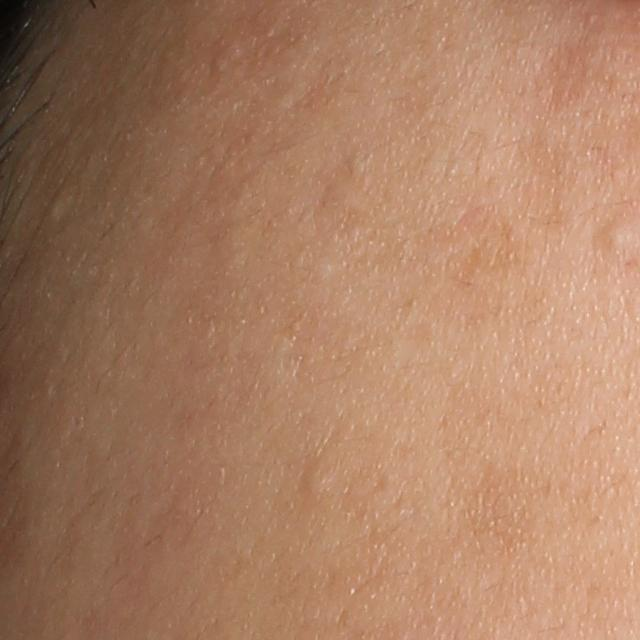comedo: (595, 215, 636, 258), (299, 461, 335, 502), (44, 198, 71, 222)
